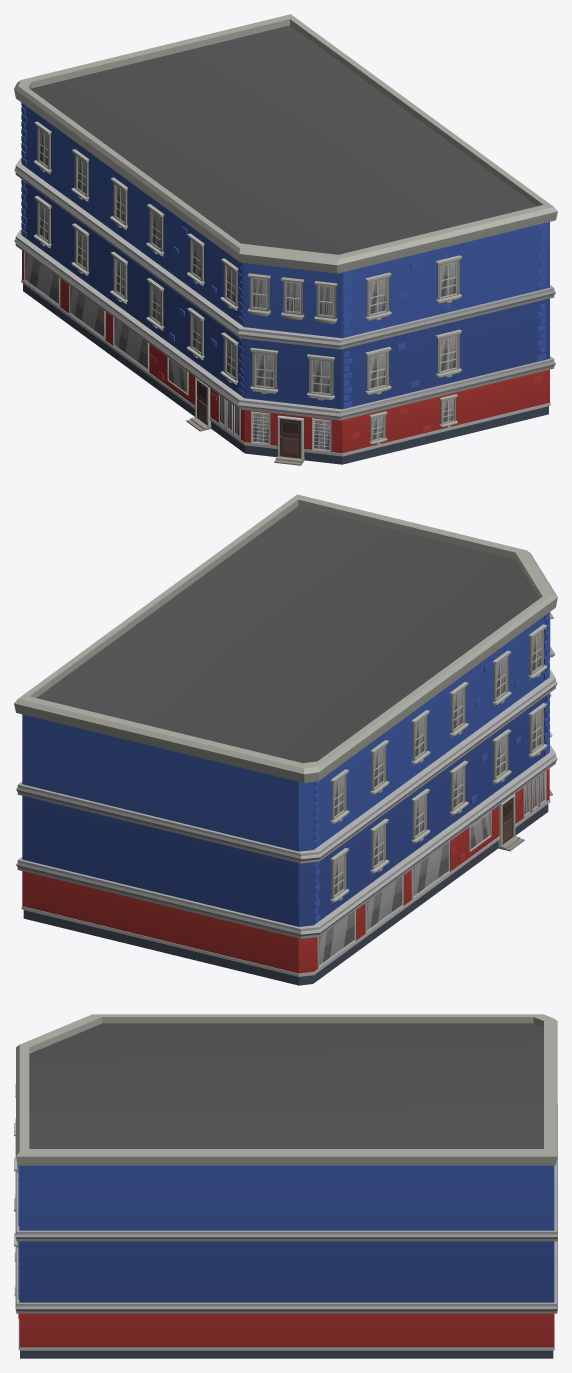
File: Building_25_10_B.glb
3 views of the same model, one above another, from view 1: azimuth 30°, elevation 25°; view 2: azimuth 150°, elevation 25°; view 3: azimuth 270°, elevation 25° (orthographic). The views are drawn at different scales.
Visible parts, largest first — view 1: Building_25_10_B; view 2: Building_25_10_B; view 3: Building_25_10_B.
Part boxes in pixels (x1,y1,x2,y2): Building_25_10_B: (14, 14, 557, 465); Building_25_10_B: (14, 494, 557, 985); Building_25_10_B: (14, 1014, 557, 1358).
Bounding box in the file's own units: 16.83 × 11.59 × 27.29.
Materials: 3 (3 with a texture image).
